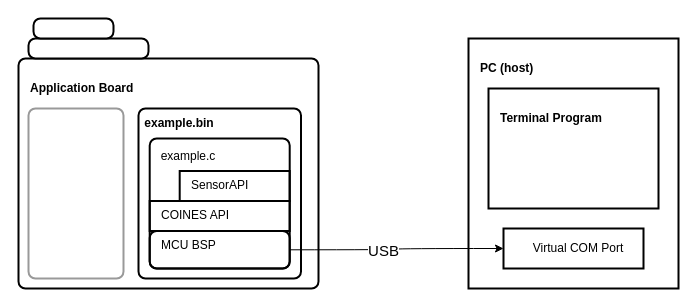
The diagram is 696 pixels wide and 306 high, and some of its shapes have lost their labels. Each missing label, with the centre of its shape:
firmware.fwu2: the point at 75,193
Sensor: the point at 73,28
Shuttle board: the point at 88,48
